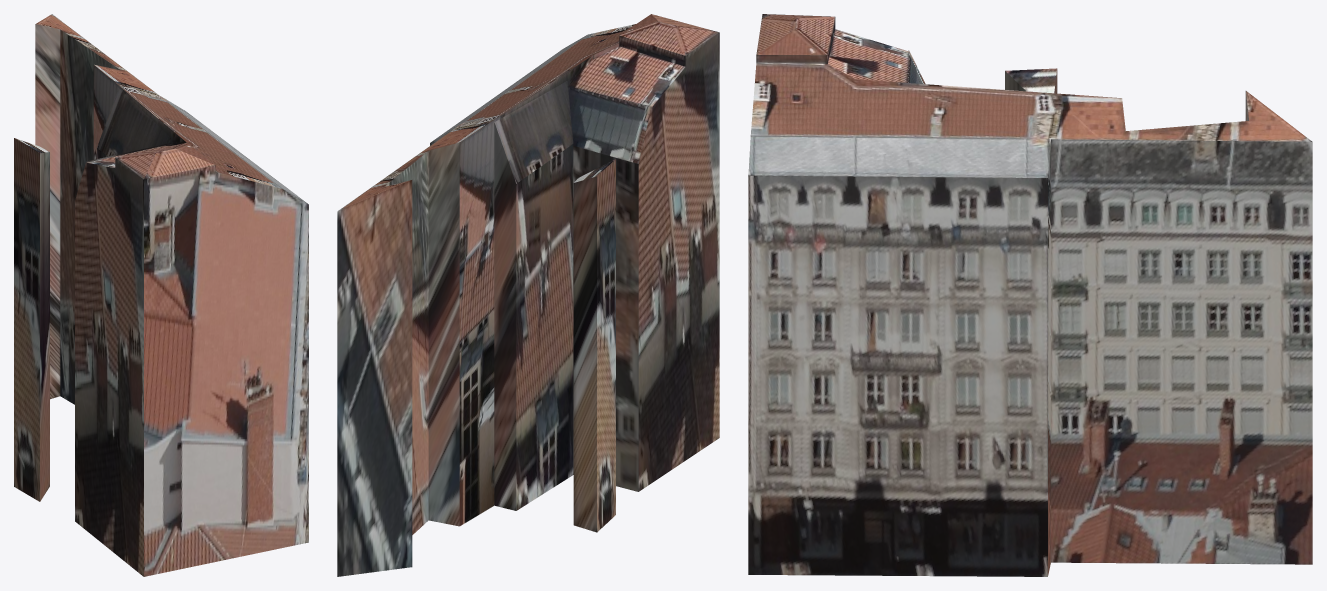
3 views of the same model, side by side, from view 1: azimuth 30°, elevation 25°; view 2: azimuth 150°, elevation 25°; view 3: azimuth 270°, elevation 25° (orthographic). The views are drawn at different scales.
Visible parts, largest first — view 1: Z_UP; view 2: Z_UP; view 3: Z_UP.
Part boxes in pixels (x1=…): Z_UP: x1=14, y1=14, x2=308, y2=576; Z_UP: x1=337, y1=14, x2=719, y2=576; Z_UP: x1=748, y1=14, x2=1312, y2=576.
Bounding box in the file's own units: 12.08 × 28.05 × 29.83.
Materials: 2 (1 with a texture image).
